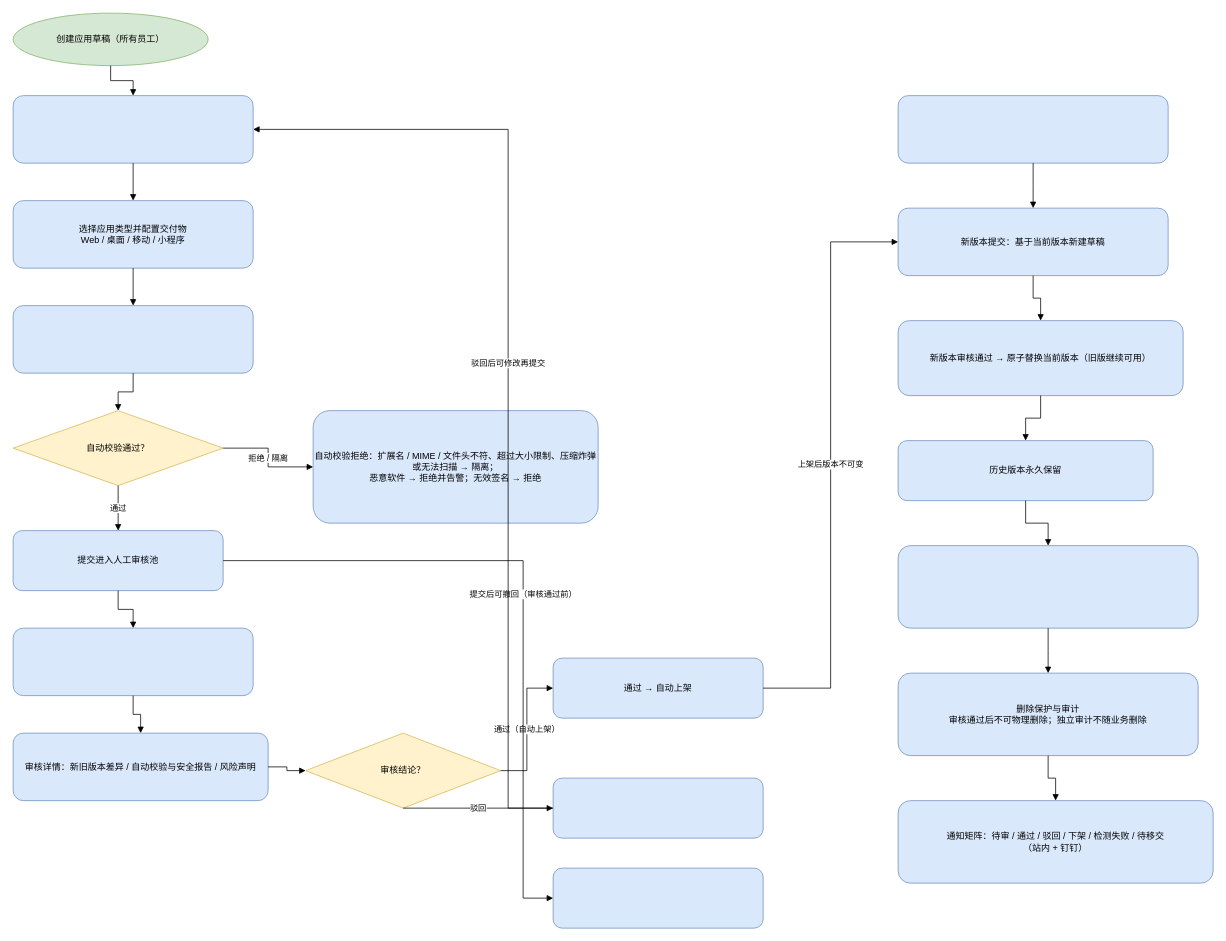
Image size: 1226x941. Some labels were removed from this diagram. The centre of each missing label's shape, as x and y in pixels:
"下架 / 归档（必填原因） 责任人/管理员可立即执行，维护人需申请" belongs at point 1047,586.
"分片上传与隔离 quarantine / 计算 SHA-256" belongs at point 132,339.
"填写应用信息与素材 图标 / 封面 / 截图 / 简介 / 风险声明" belongs at point 132,129.
"审核任务领取 超时自动释放 / 超管可转交" belongs at point 132,661.
"已上架版本不可变（不可原地修改）" belongs at point 1032,129.
"提交者撤回（审核通过前可撤回）" belongs at point 657,897.
"驳回（必填原因）" belongs at point 657,807.
